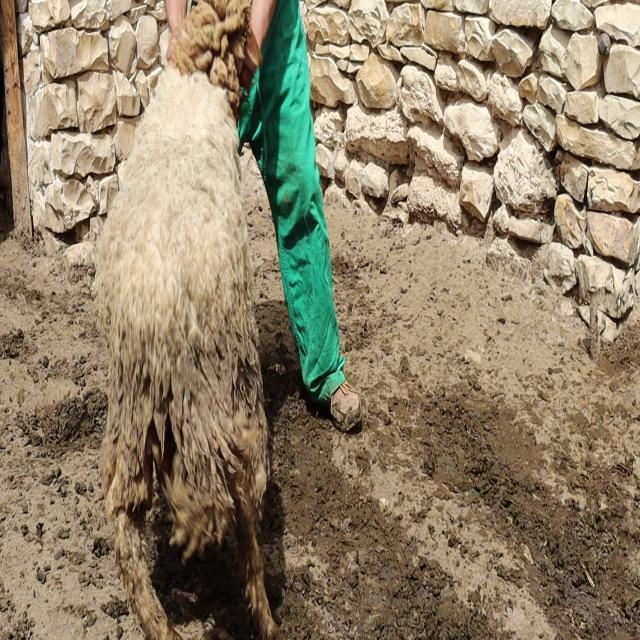Score_2: (96, 0, 276, 639)
